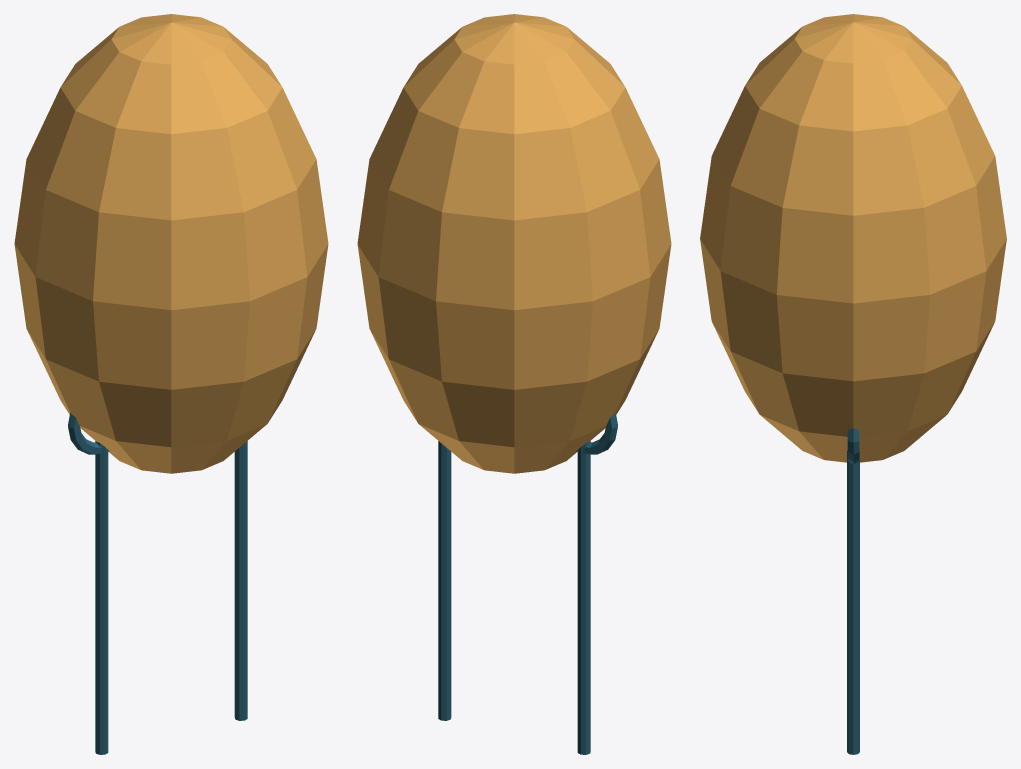
Rendered from lift-bag.glb.
The picture shows the model from 3 angles, left to right: view 1: azimuth 30°, elevation 25°; view 2: azimuth 150°, elevation 25°; view 3: azimuth 270°, elevation 25°; orthographic projection. The views are drawn at different scales.
Parts seen in each view (by area): view 1: inflated_salvage_lift_bag, lift_bag_sling, lift_bag_sling.001, lift_bag_eye; view 2: inflated_salvage_lift_bag, lift_bag_sling, lift_bag_sling.001, lift_bag_eye; view 3: inflated_salvage_lift_bag, lift_bag_sling.001.
Boxes of the visible parts, <box> form: inflated_salvage_lift_bag: <box>14,14,328,473</box>; lift_bag_sling: <box>95,441,108,754</box>; lift_bag_sling.001: <box>234,441,247,720</box>; lift_bag_eye: <box>68,413,109,454</box>; inflated_salvage_lift_bag: <box>357,14,671,473</box>; lift_bag_sling: <box>577,441,590,754</box>; lift_bag_sling.001: <box>438,441,451,720</box>; lift_bag_eye: <box>576,413,617,454</box>; inflated_salvage_lift_bag: <box>700,14,1006,462</box>; lift_bag_sling.001: <box>847,451,859,754</box>.
Bounding box in the file's own units: 1.17 × 2.93 × 1.17.
